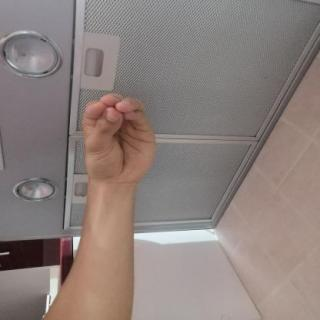HA: (71, 85, 167, 193)
